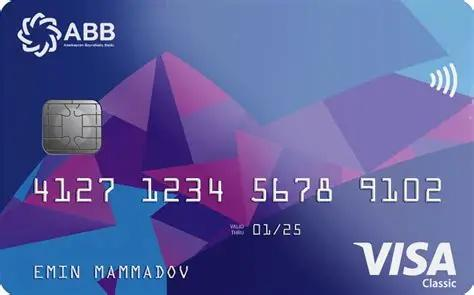ABB: (14, 12, 62, 57)
